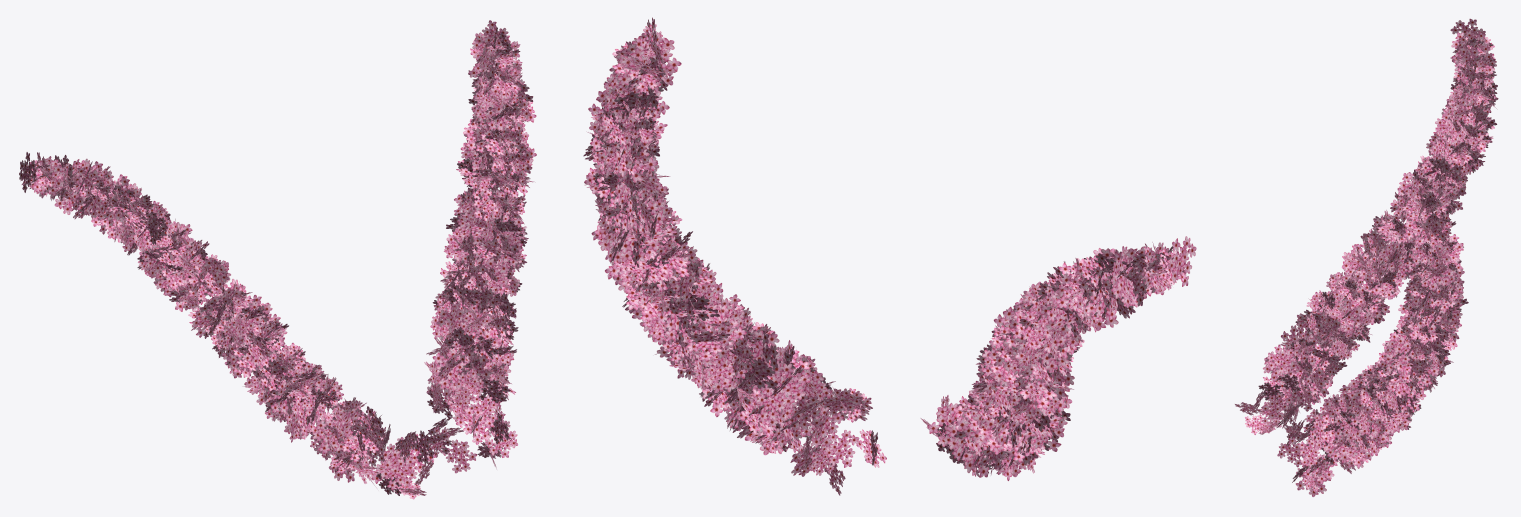
The model's file is pm-branch-flowers-01.glb.
3 views of the same model, side by side, from view 1: azimuth 30°, elevation 25°; view 2: azimuth 150°, elevation 25°; view 3: azimuth 270°, elevation 25° (orthographic). The views are drawn at different scales.
Parts seen in each view (by area): view 1: BranchFlowers01_Art; view 2: BranchFlowers01_Art; view 3: BranchFlowers01_Art.
Boxes of the visible parts, <box> form: BranchFlowers01_Art: <box>19,20,536,499</box>; BranchFlowers01_Art: <box>583,17,1196,495</box>; BranchFlowers01_Art: <box>1235,18,1498,497</box>.
Bounding box in the file's own units: 15.6 × 12.08 × 8.28.
1 material, 1 textured.
